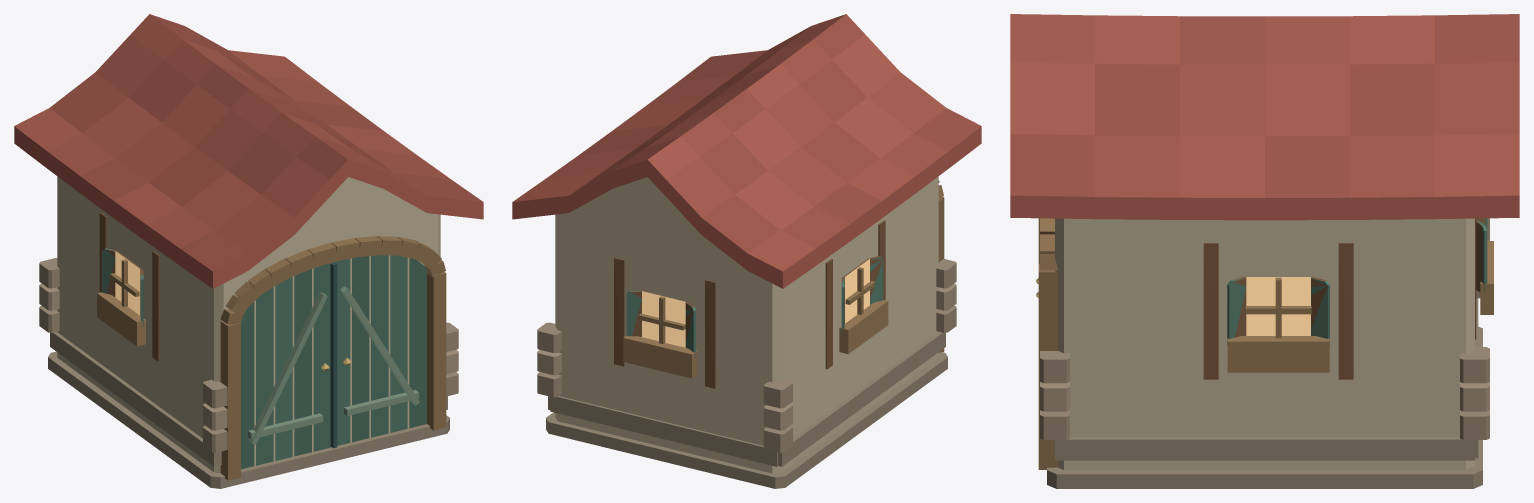
The model's file is apple-gable-garage.glb.
3 renders of one model, left to right at view 1: azimuth 30°, elevation 25°; view 2: azimuth 150°, elevation 25°; view 3: azimuth 270°, elevation 25°, orthographic. The views are drawn at different scales.
Parts seen in each view (by area): view 1: apfelgarage; view 2: apfelgarage; view 3: apfelgarage.
Part boxes in pixels (<box>): apfelgarage: <box>14,14,483,488</box>; apfelgarage: <box>512,14,981,488</box>; apfelgarage: <box>1010,14,1519,488</box>.
Bounding box in the file's own units: 2.94 × 3.24 × 3.74.
